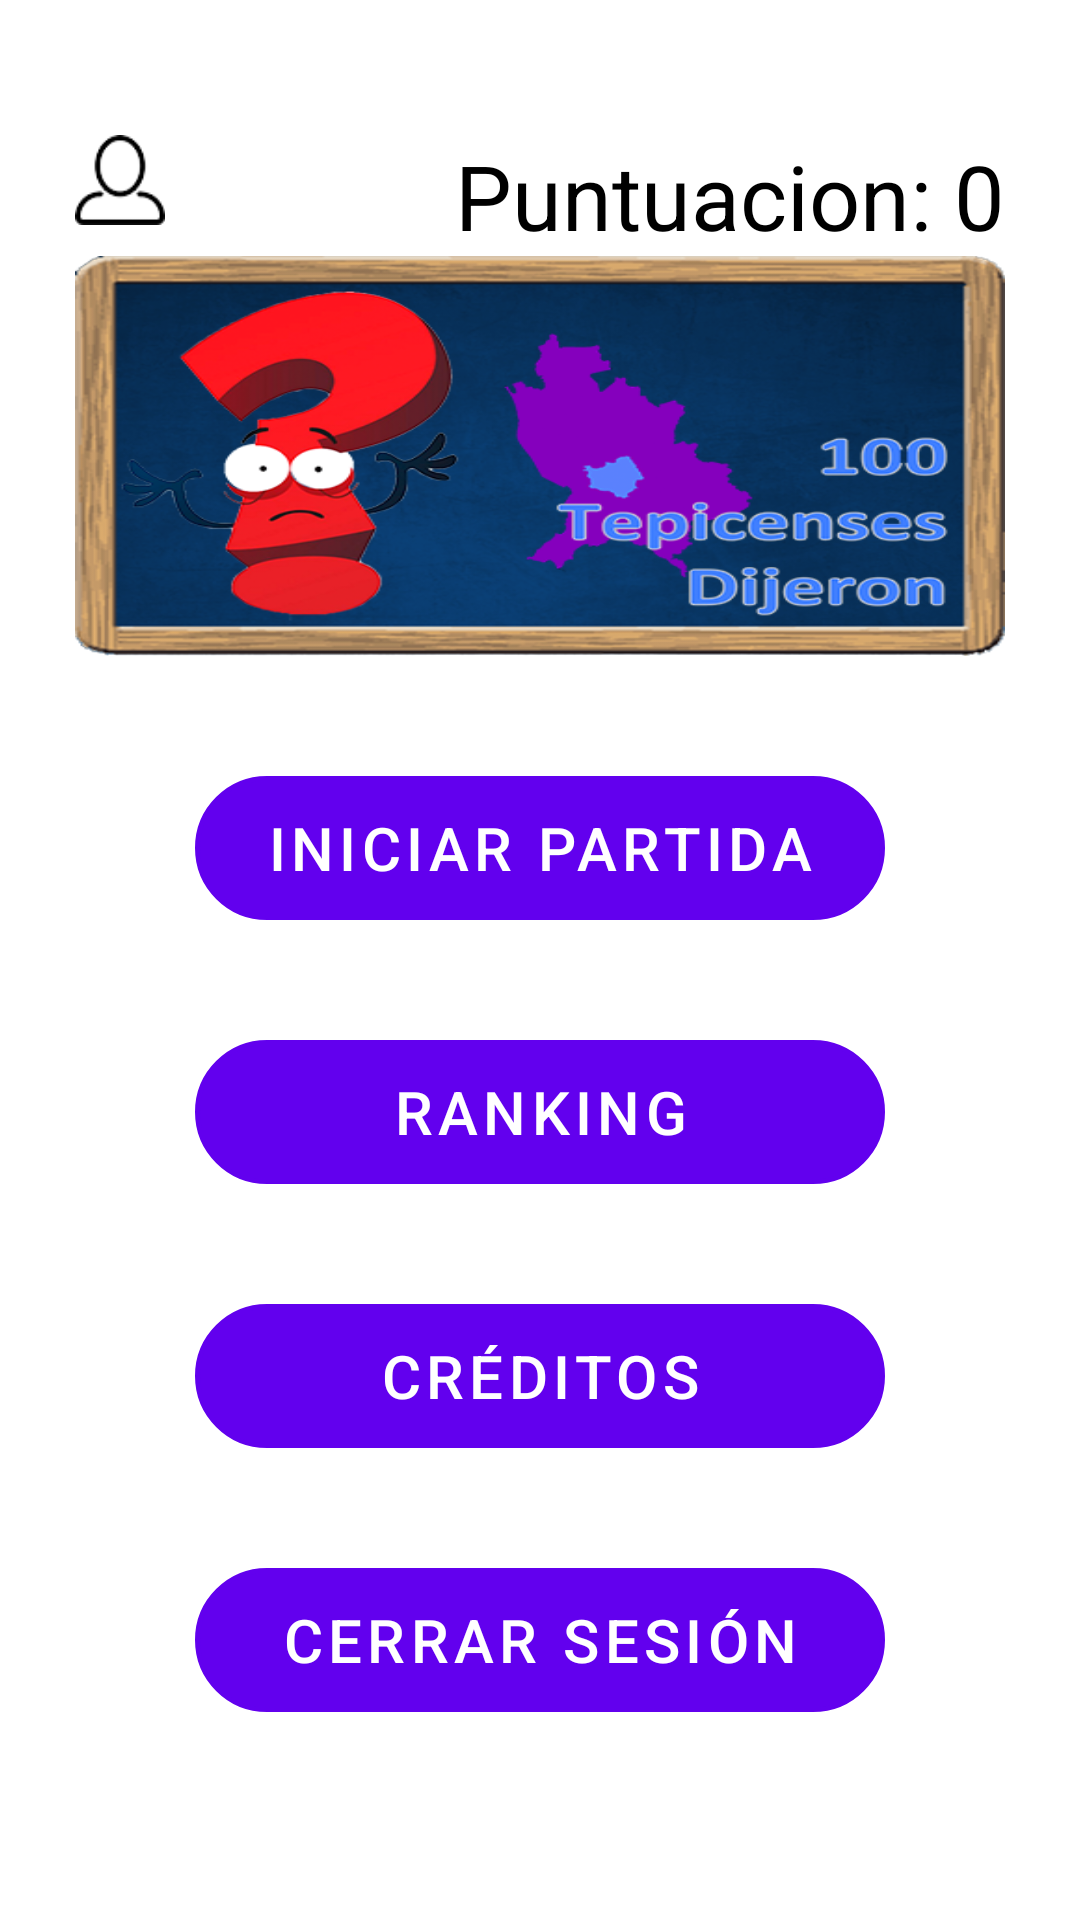

Point at icon controls on the screen. Image size 1080px×1920px, points as [x,y].
user: [120,180]
